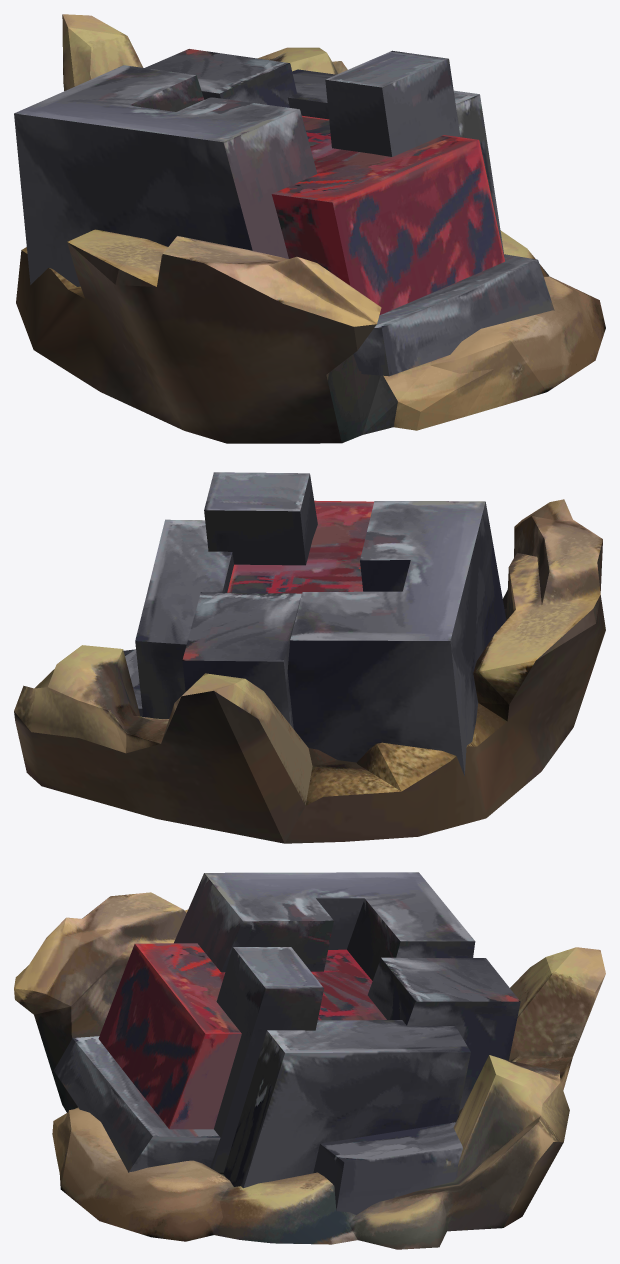
The model's file is S_survive_quarry.fbx.
3 renders of one model, top to bottom at view 1: azimuth 30°, elevation 25°; view 2: azimuth 150°, elevation 25°; view 3: azimuth 270°, elevation 25°, orthographic. The views are drawn at different scales.
Parts seen in each view (by area): view 1: S_survive_quarry; view 2: S_survive_quarry; view 3: S_survive_quarry.
Part boxes in pixels (box(x1,y1,x2,y2)): S_survive_quarry: box(14, 14, 605, 443); S_survive_quarry: box(14, 472, 605, 843); S_survive_quarry: box(14, 872, 605, 1249).
Size of the model in its own units: 1.05 by 0.5521 by 1.26.
Materials: 1 (1 with a texture image).
